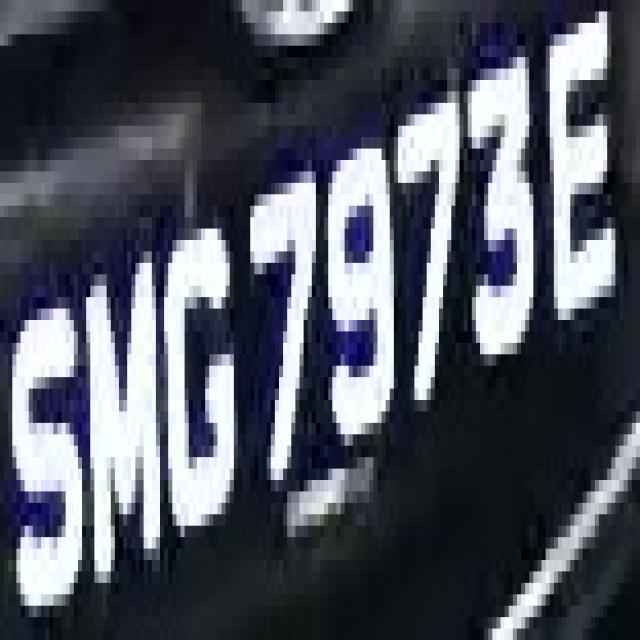3: (456, 23, 534, 388)
7: (230, 148, 324, 503), (390, 80, 468, 446)
9: (308, 114, 406, 446)
E: (534, 34, 616, 366)
G: (164, 205, 246, 526)
M: (86, 229, 172, 594)
S: (0, 251, 90, 617)
